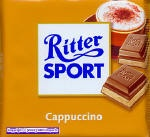grozi_116: (0, 0, 150, 136)
